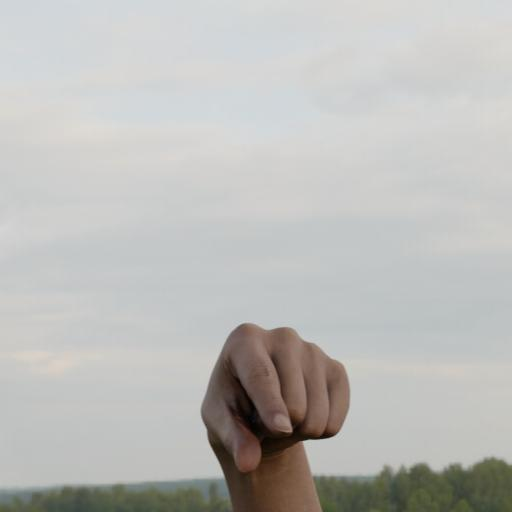Q: (175, 294, 373, 500)
